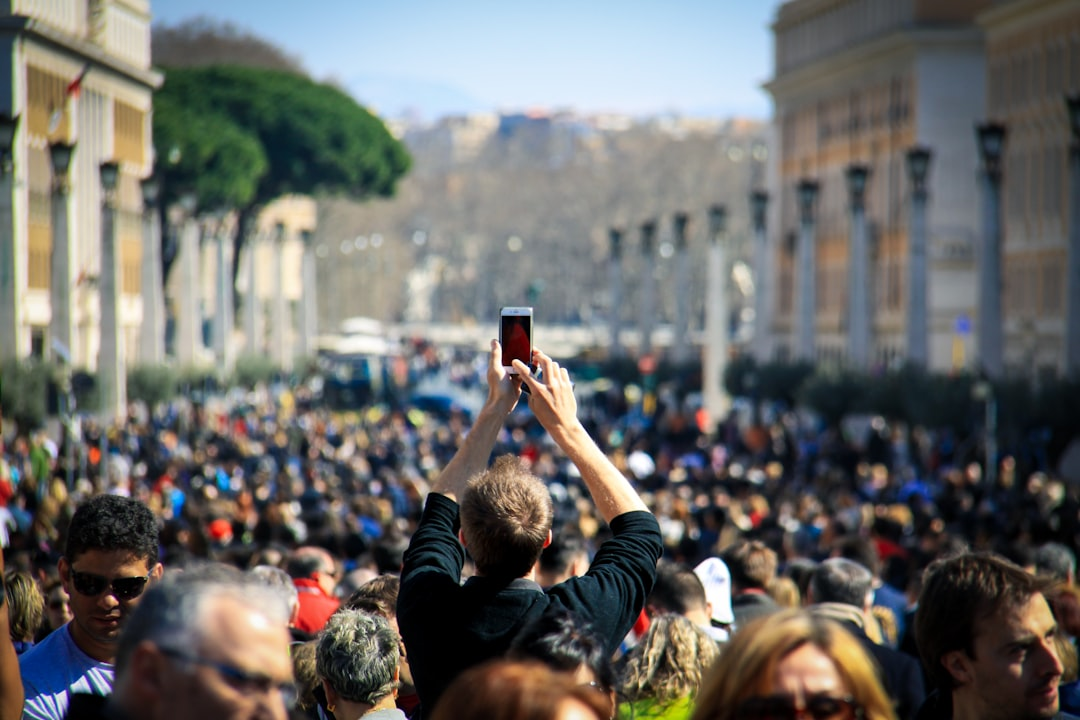phone: (498, 305, 535, 375)
